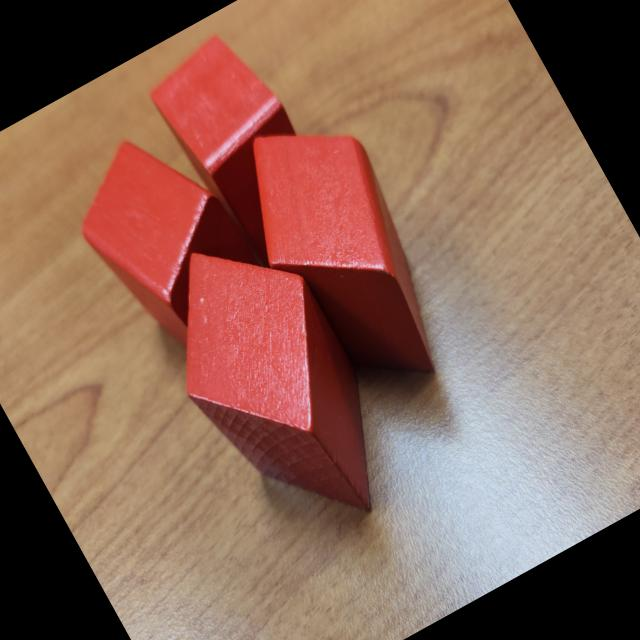red: (126, 209, 422, 565), (212, 94, 476, 416), (52, 108, 287, 366), (138, 21, 347, 274)
